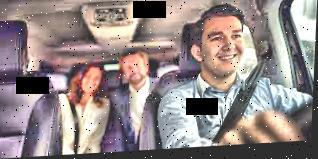seatbelt: (212, 45, 276, 145), (62, 88, 90, 156)
